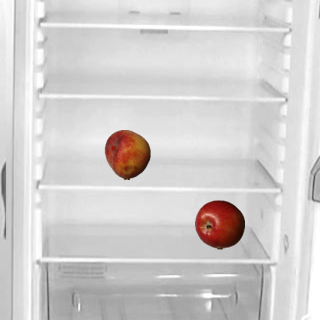Apple Braeburn: (194, 199, 244, 249)
Peach: (102, 129, 152, 179)
